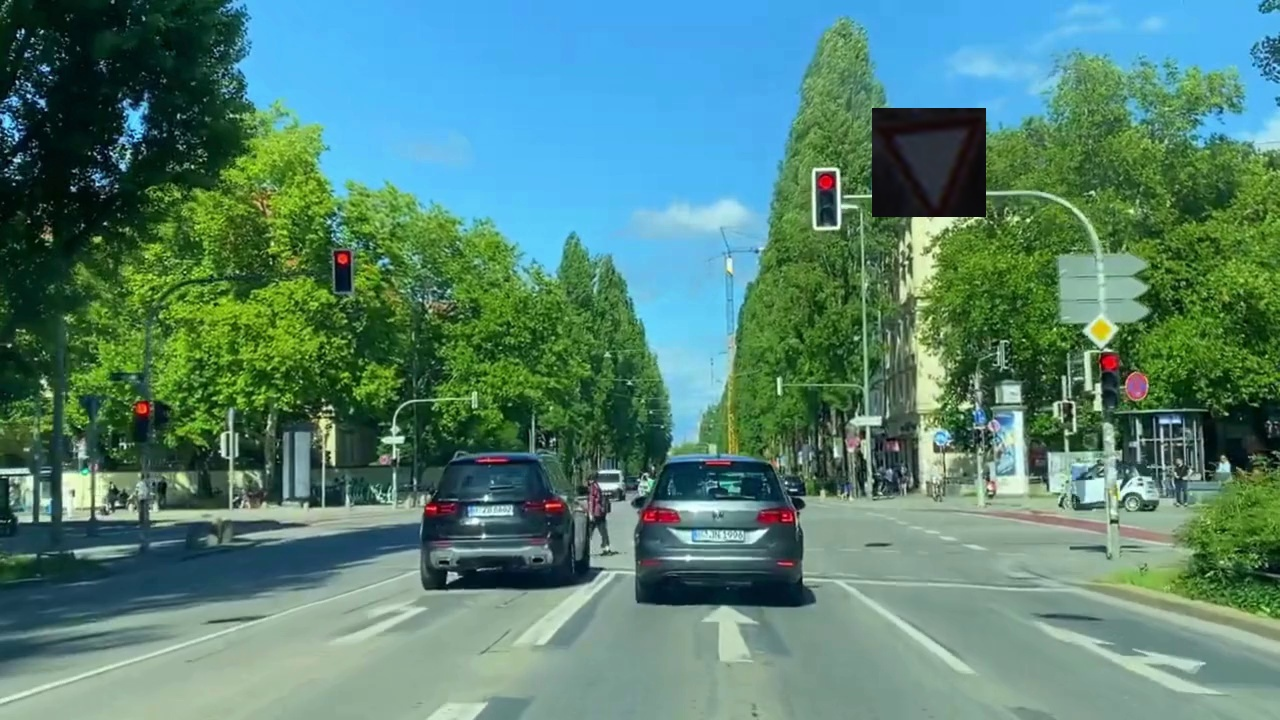Yield: (872, 108, 986, 217)
